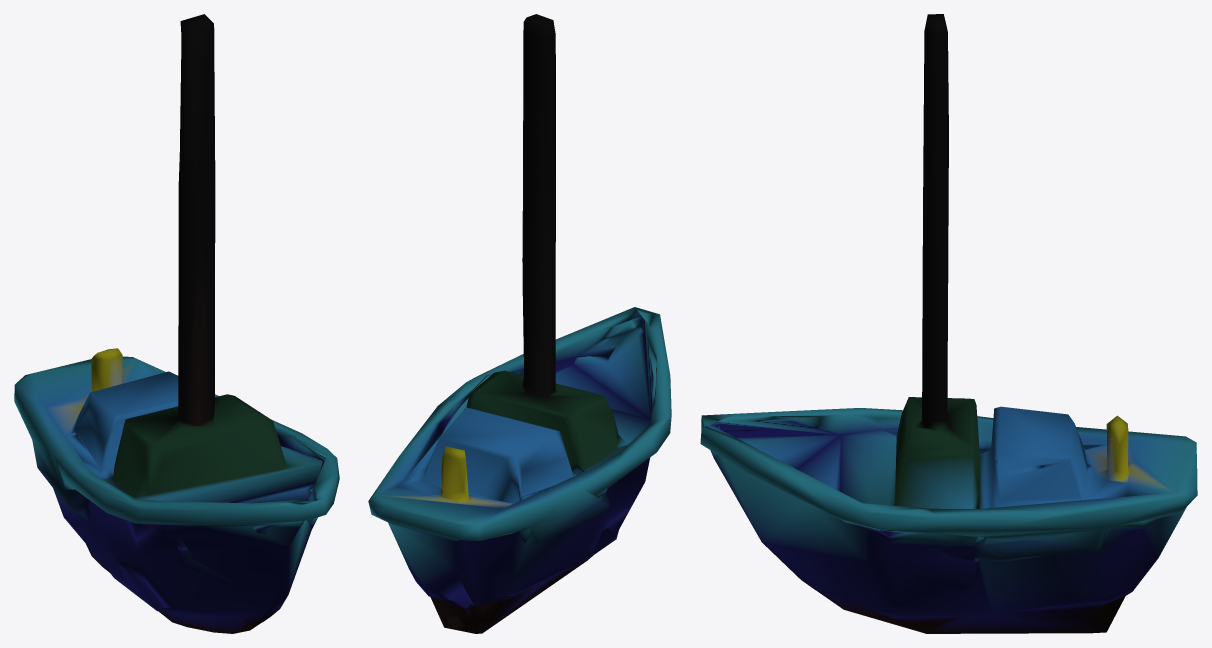
Rendered from gen3d-sailboat-lod1.glb.
The picture shows the model from 3 angles, left to right: view 1: azimuth 30°, elevation 25°; view 2: azimuth 150°, elevation 25°; view 3: azimuth 270°, elevation 25°; orthographic projection. The views are drawn at different scales.
Visible parts, largest first — view 1: part_0; view 2: part_0; view 3: part_0.
Boxes of the visible parts, <box> form: part_0: <box>14,14,339,633</box>; part_0: <box>368,14,671,633</box>; part_0: <box>700,14,1197,633</box>.
Size of the model in its own units: 0.3753 by 0.9981 by 0.7376.
